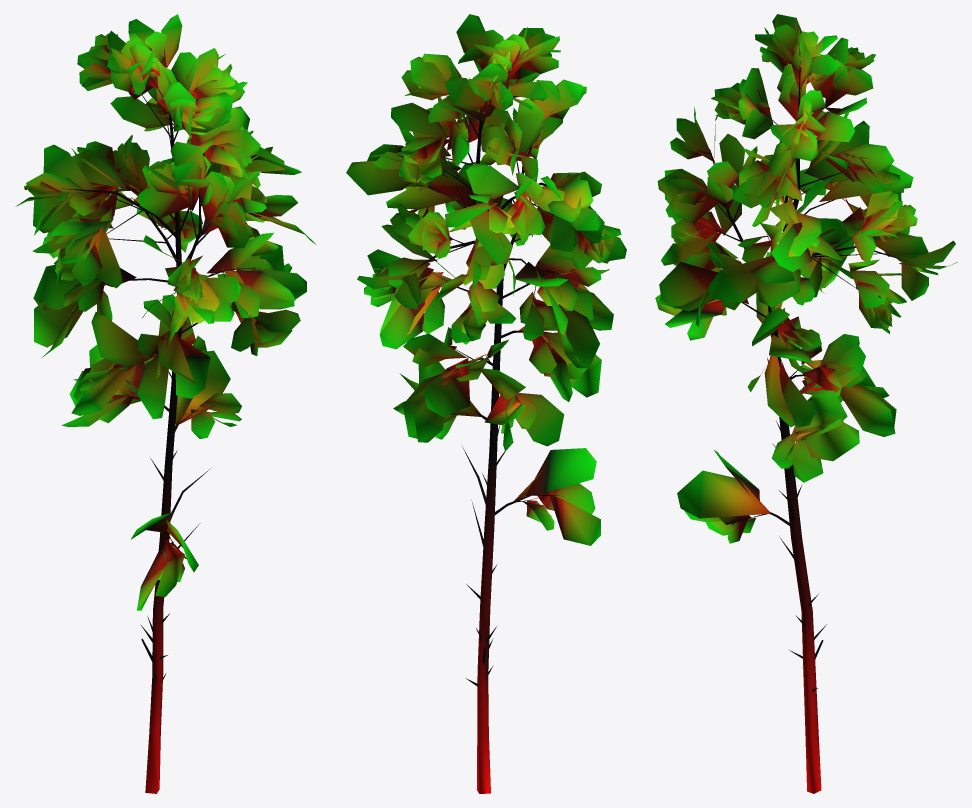
The model's file is Pine_2_LOD_2.fbx.
3 views of the same model, side by side, from view 1: azimuth 30°, elevation 25°; view 2: azimuth 150°, elevation 25°; view 3: azimuth 270°, elevation 25° (orthographic).
Parts seen in each view (by area): view 1: Pine_2_LOD_2; view 2: Pine_2_LOD_2; view 3: Pine_2_LOD_2.
Boxes of the visible parts, left/top/right/bottom form: Pine_2_LOD_2: left=15, top=14, right=316, bottom=793; Pine_2_LOD_2: left=346, top=14, right=626, bottom=793; Pine_2_LOD_2: left=655, top=14, right=957, bottom=793.
Bounding box in the file's own units: 13.16 × 37.69 × 13.56.
